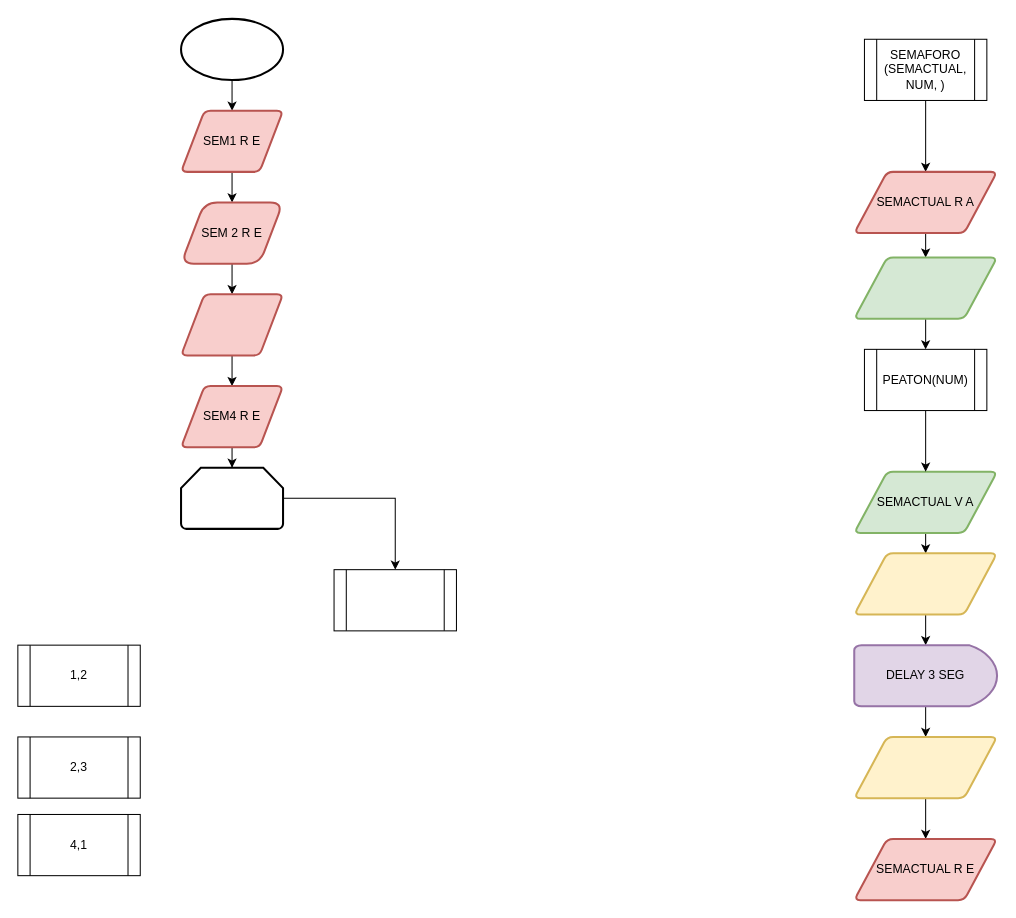
This 1016x918 diagram has some shape labels left out. The centre of each missing label's shape, as x and y in pixels:
inicio: the point at 232,49
SEM3 R E: the point at 232,324
SEMACTUAL A A: the point at 925,767
SEMACTUAL A E: the point at 925,583
SEMACTUAL V E: the point at 925,287
SEMAFORO(3,4): the point at 394,600
